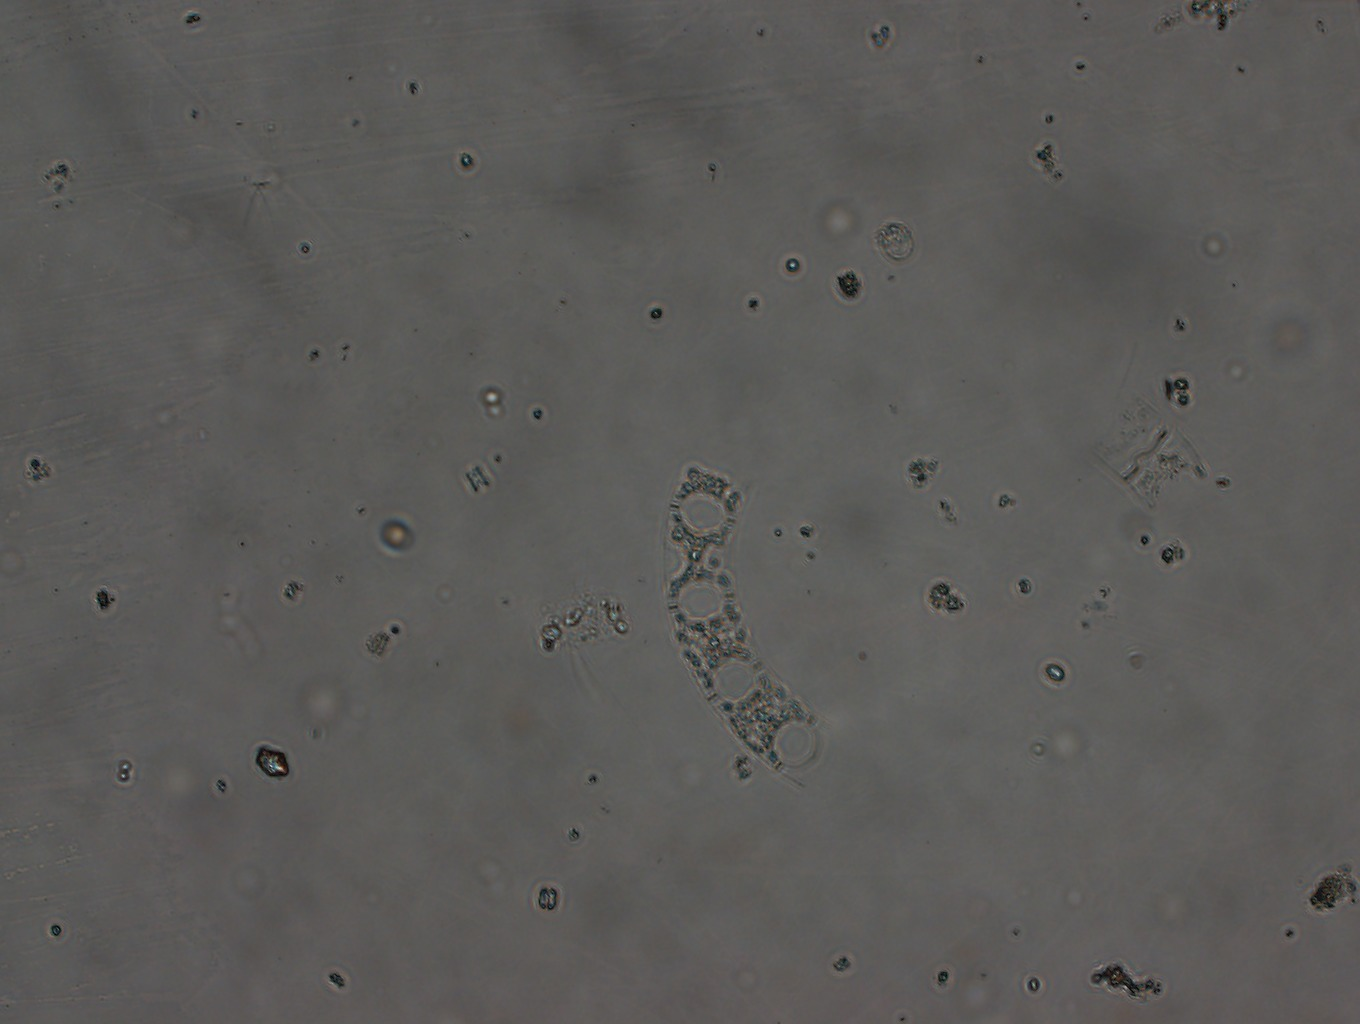eucampia: (661, 463, 830, 786)
